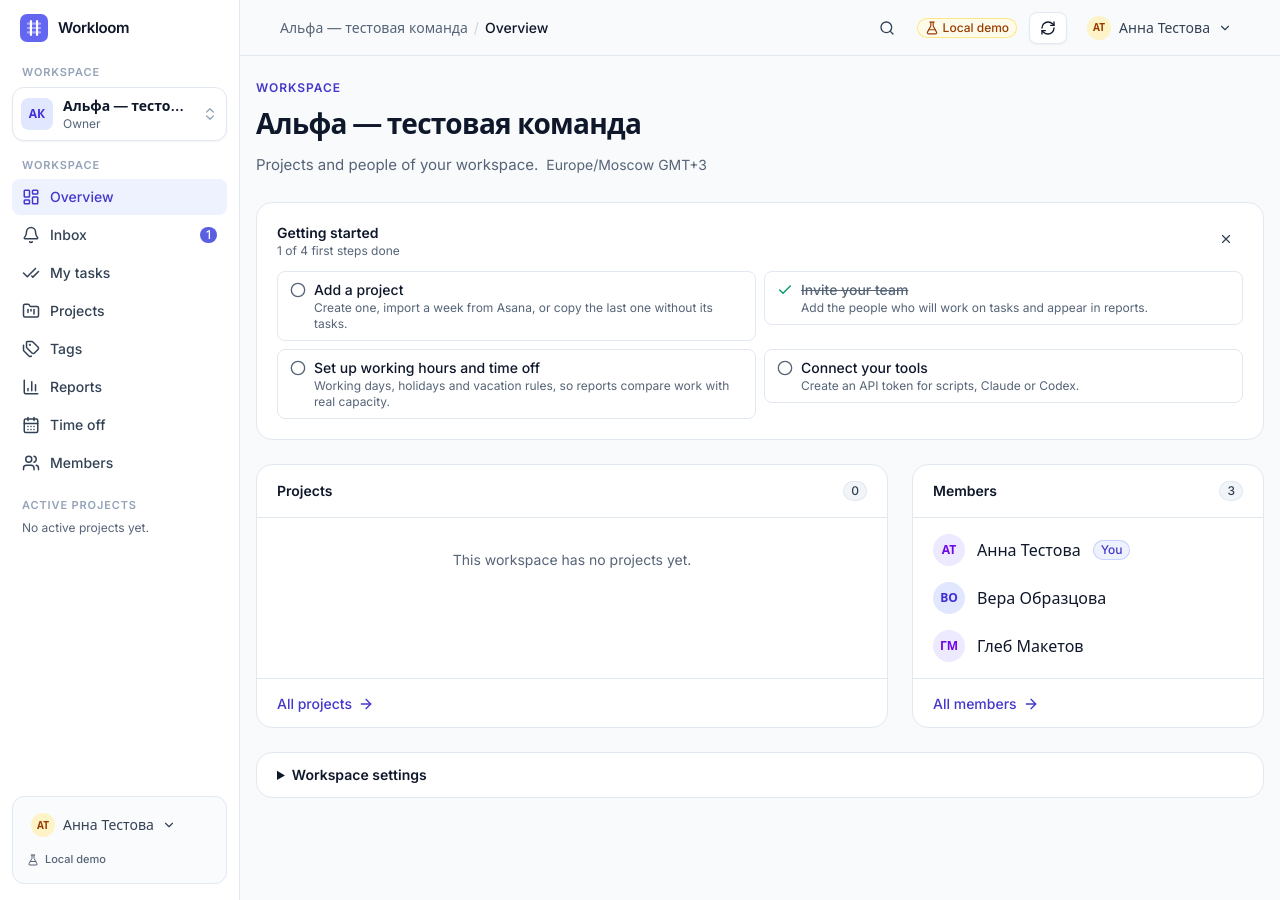
Test case: inbox › lists assignments and comments, marks what is new, and clears the sidebar badge once seen
Expected: the text named "1 new in your inbox" is shown, [200,227,217,243]
Click the link "Inbox 1" at x=68, y=234, box [22,226,217,244]
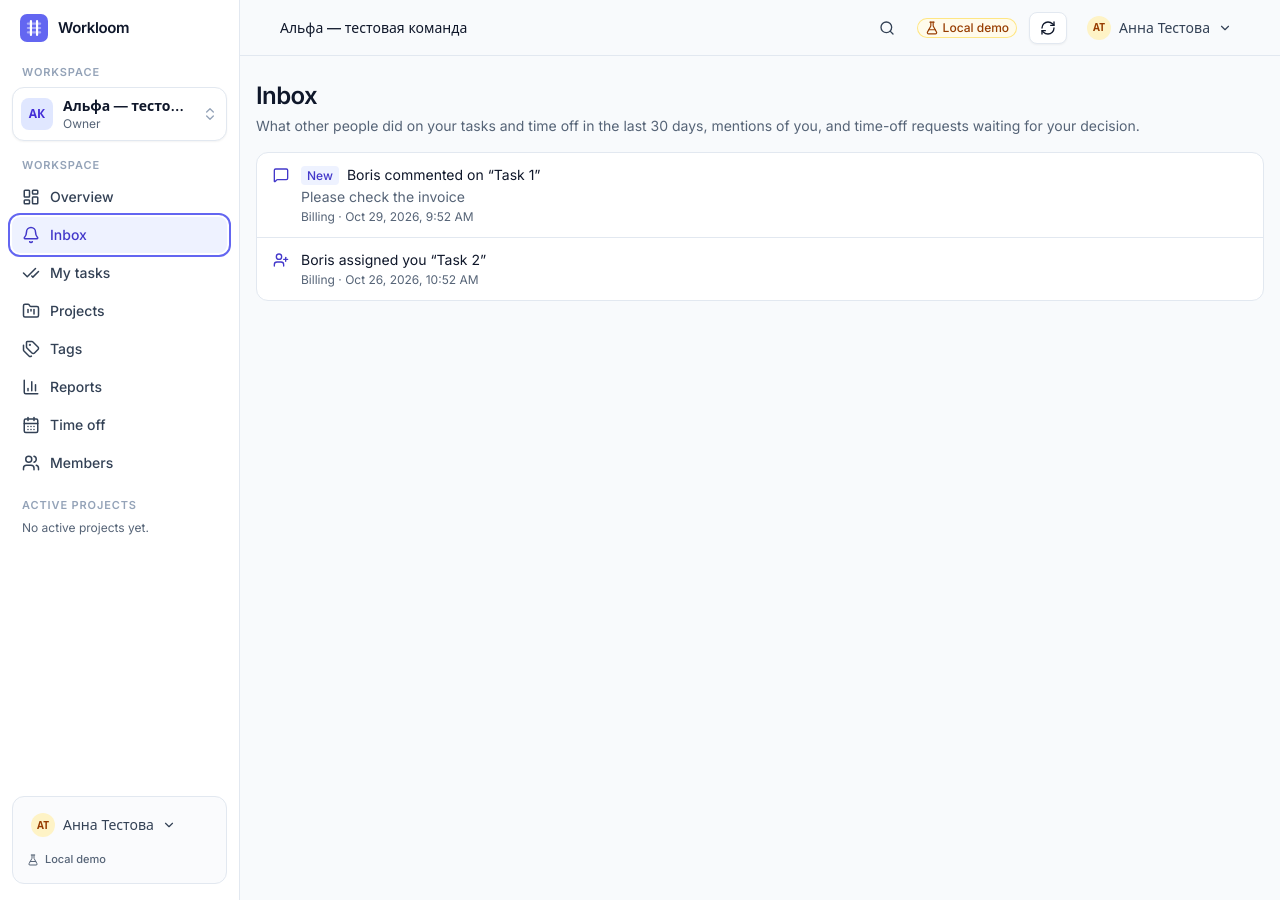
Result: the heading "Inbox" is shown at [256,81,317,110]
Result: the text "Boris commented on “Task 1”" is shown at [347,166,541,183]
Result: the text "Please check the invoice" is shown at [301,188,465,205]
